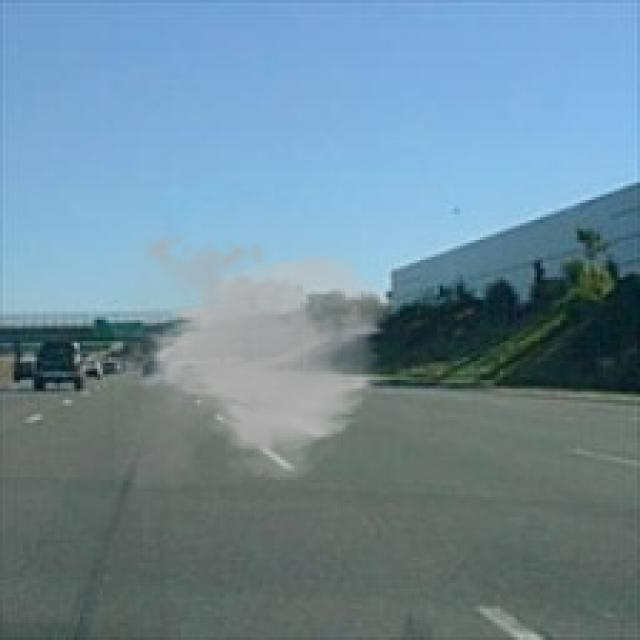smoke: (114, 226, 397, 488)
